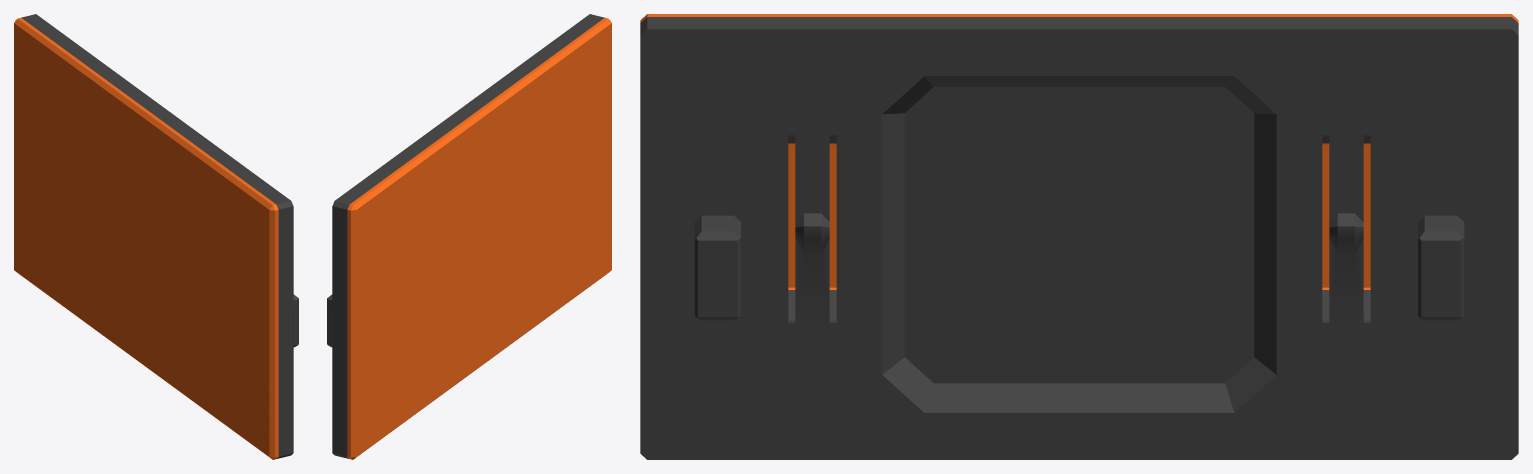
File: SideCover_59-05H.lib.glb
3 views of the same model, side by side, from view 1: azimuth 30°, elevation 25°; view 2: azimuth 150°, elevation 25°; view 3: azimuth 270°, elevation 25° (orthographic). The views are drawn at different scales.
Visible parts, largest first — view 1: SideCover_59-05H; view 2: SideCover_59-05H; view 3: SideCover_59-05H.
Boxes of the visible parts, x1=… form: SideCover_59-05H: x1=14, y1=14, x2=298, y2=459; SideCover_59-05H: x1=327, y1=14, x2=611, y2=459; SideCover_59-05H: x1=640, y1=14, x2=1518, y2=459.
Bounding box in the file's own units: 5.05 × 27.6 × 51.
